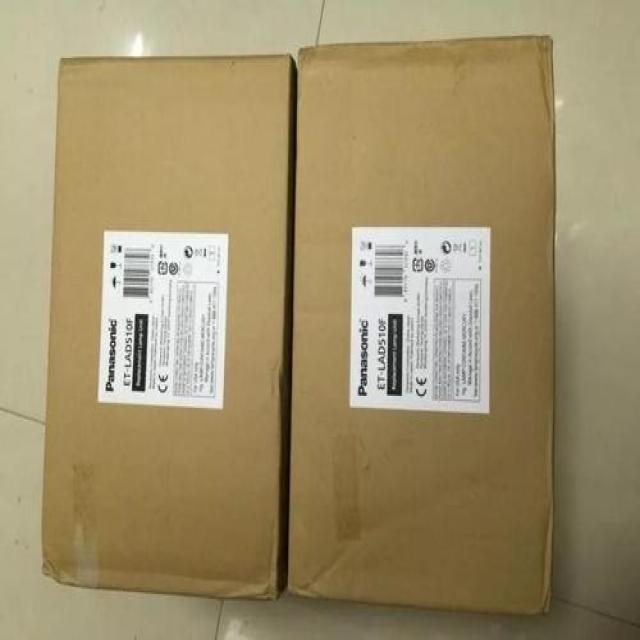Carton: (284, 36, 554, 618), (42, 56, 289, 599)
